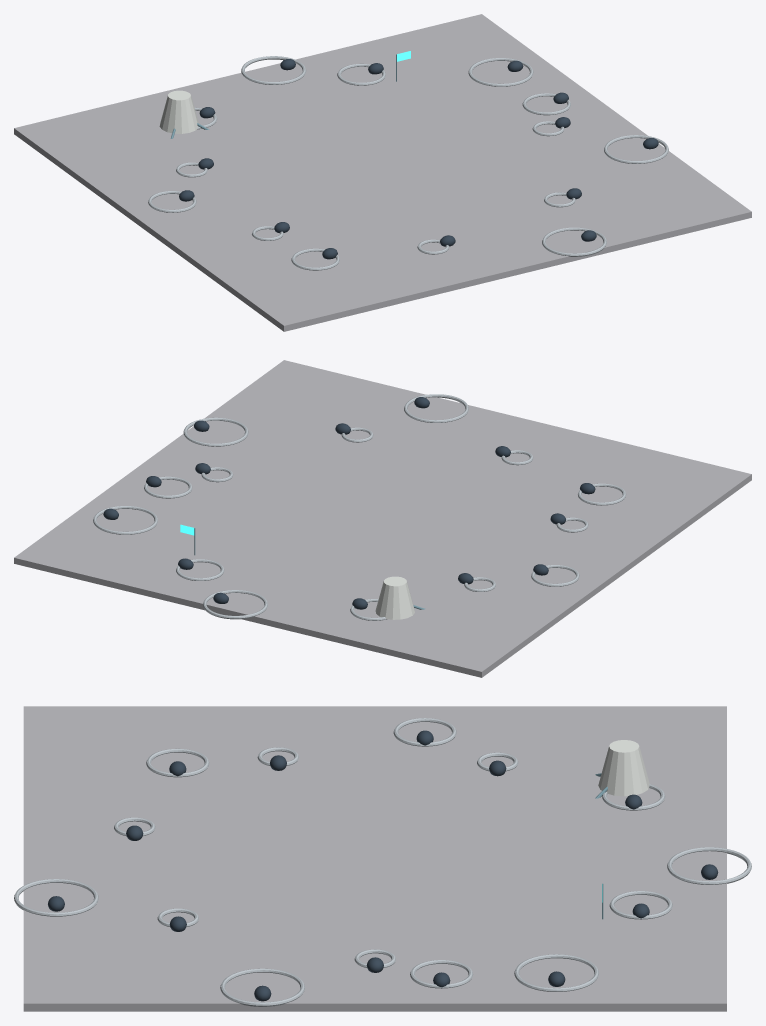
File: journey_moonplain.glb
3 renders of one model, top to bottom at view 1: azimuth 30°, elevation 25°; view 2: azimuth 150°, elevation 25°; view 3: azimuth 270°, elevation 25°, orthographic. The views are drawn at different scales.
Visible parts, largest first — view 1: Scenery_Journey Regolith, Scenery_Journey Limestone.003, Scenery_Journey Graphite.004, Scenery_Journey Ivory.006; view 2: Scenery_Journey Regolith, Scenery_Journey Limestone.003, Scenery_Journey Graphite.004, Scenery_Journey Ivory.006; view 3: Scenery_Journey Regolith, Scenery_Journey Limestone.003, Scenery_Journey Graphite.004, Scenery_Journey Ivory.006.
Boxes of the visible parts, box(x1,y1,x2,y2) form: Scenery_Journey Regolith: box(14, 14, 751, 331); Scenery_Journey Limestone.003: box(148, 56, 668, 270); Scenery_Journey Graphite.004: box(179, 59, 658, 259); Scenery_Journey Ivory.006: box(159, 90, 198, 133); Scenery_Journey Regolith: box(14, 360, 751, 677); Scenery_Journey Limestone.003: box(93, 394, 626, 620); Scenery_Journey Graphite.004: box(103, 397, 595, 609); Scenery_Journey Ivory.006: box(375, 576, 414, 619); Scenery_Journey Regolith: box(23, 706, 726, 1011); Scenery_Journey Limestone.003: box(14, 718, 751, 1006); Scenery_Journey Graphite.004: box(48, 730, 718, 1001); Scenery_Journey Ivory.006: box(598, 740, 649, 796).
Size of the model in its own units: 65.62 by 4.9 by 68.21.
